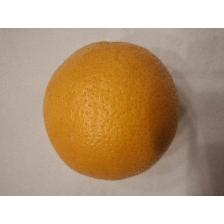Orange: (42, 40, 182, 182)
